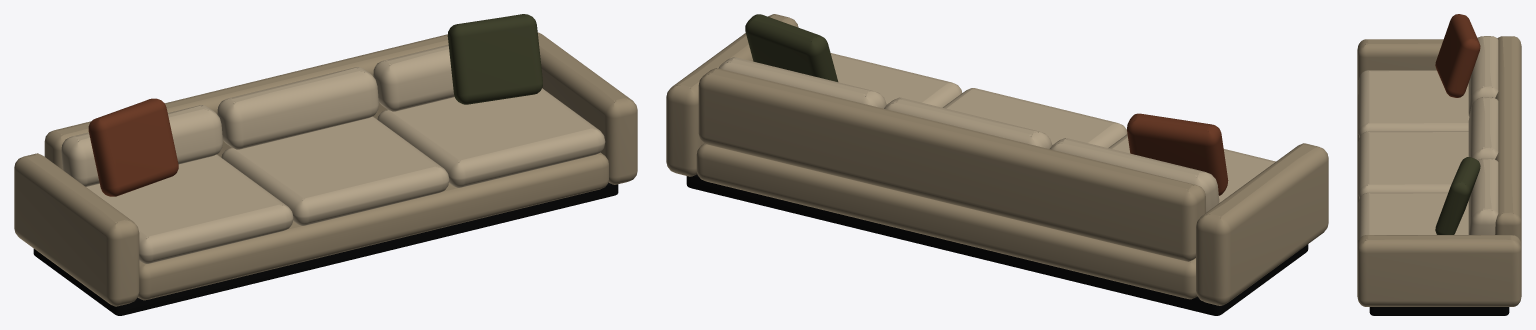
Rendered from modular-sofa-lod0.glb.
3 renders of one model, left to right at view 1: azimuth 30°, elevation 25°; view 2: azimuth 150°, elevation 25°; view 3: azimuth 270°, elevation 25°, orthographic. The views are drawn at different scales.
Visible parts, largest first — view 1: Oatmeal performance fabric, Oatmeal upholstered base, Olive accent pillow, Terracotta accent pillow, Shadow plinth; view 2: Oatmeal upholstered base, Oatmeal performance fabric, Shadow plinth, Terracotta accent pillow, Olive accent pillow; view 3: Oatmeal performance fabric, Oatmeal upholstered base, Terracotta accent pillow, Olive accent pillow, Shadow plinth.
Boxes of the visible parts, <box> form: Oatmeal performance fabric: <box>61,44,605,263</box>; Oatmeal upholstered base: <box>14,32,637,306</box>; Olive accent pillow: <box>447,14,542,104</box>; Terracotta accent pillow: <box>88,98,178,196</box>; Shadow plinth: <box>33,182,618,315</box>; Oatmeal upholstered base: <box>666,14,1328,305</box>; Oatmeal performance fabric: <box>718,53,1275,212</box>; Shadow plinth: <box>686,174,1308,315</box>; Terracotta accent pillow: <box>1127,113,1228,195</box>; Olive accent pillow: <box>745,14,838,81</box>; Oatmeal performance fabric: <box>1358,36,1498,239</box>; Oatmeal upholstered base: <box>1357,36,1521,306</box>; Terracotta accent pillow: <box>1435,14,1480,97</box>; Olive accent pillow: <box>1435,157,1480,234</box>; Shadow plinth: <box>1369,307,1509,315</box>.
Bounding box in the file's own units: 3.05 × 0.8177 × 1.02.
